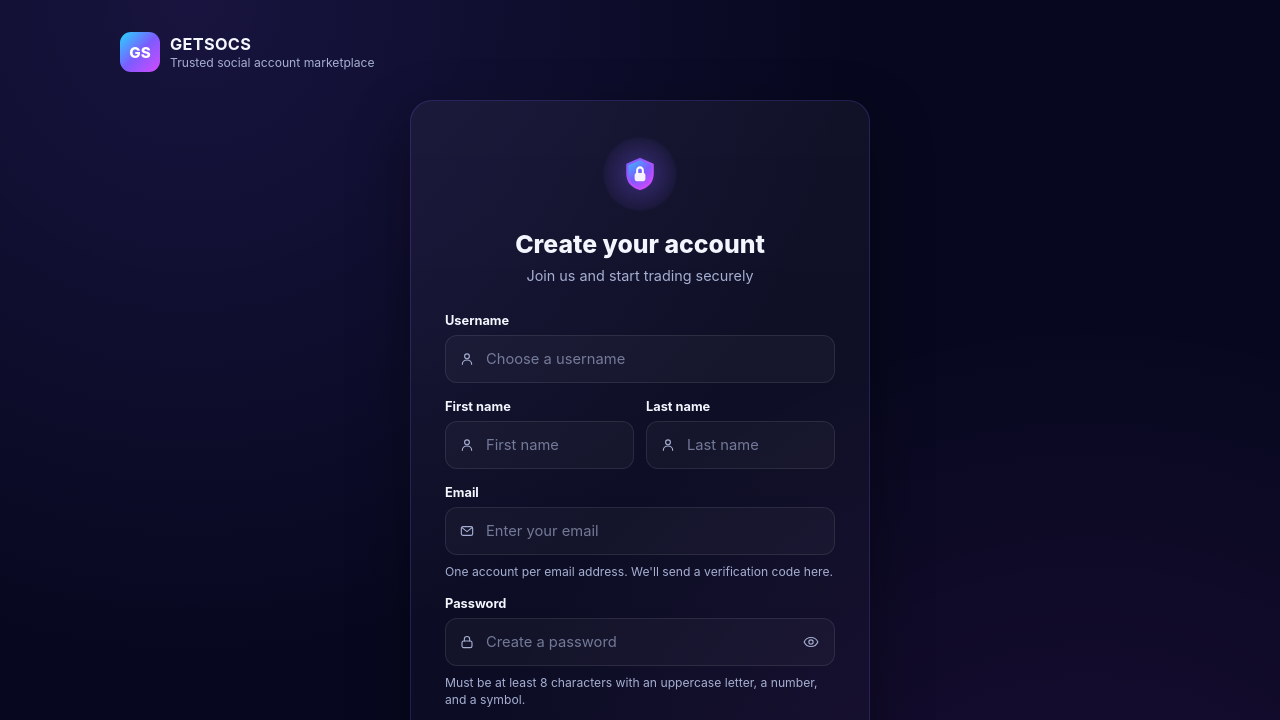
Test: Redesigned auth pages — render + core interactions › Register: submitting without agreeing to the policy shows an error, not a silent no-op
Type "tester" into the field with placeholder "Choose a username" at (640, 359), box x1=445 y1=335 x2=835 y2=383
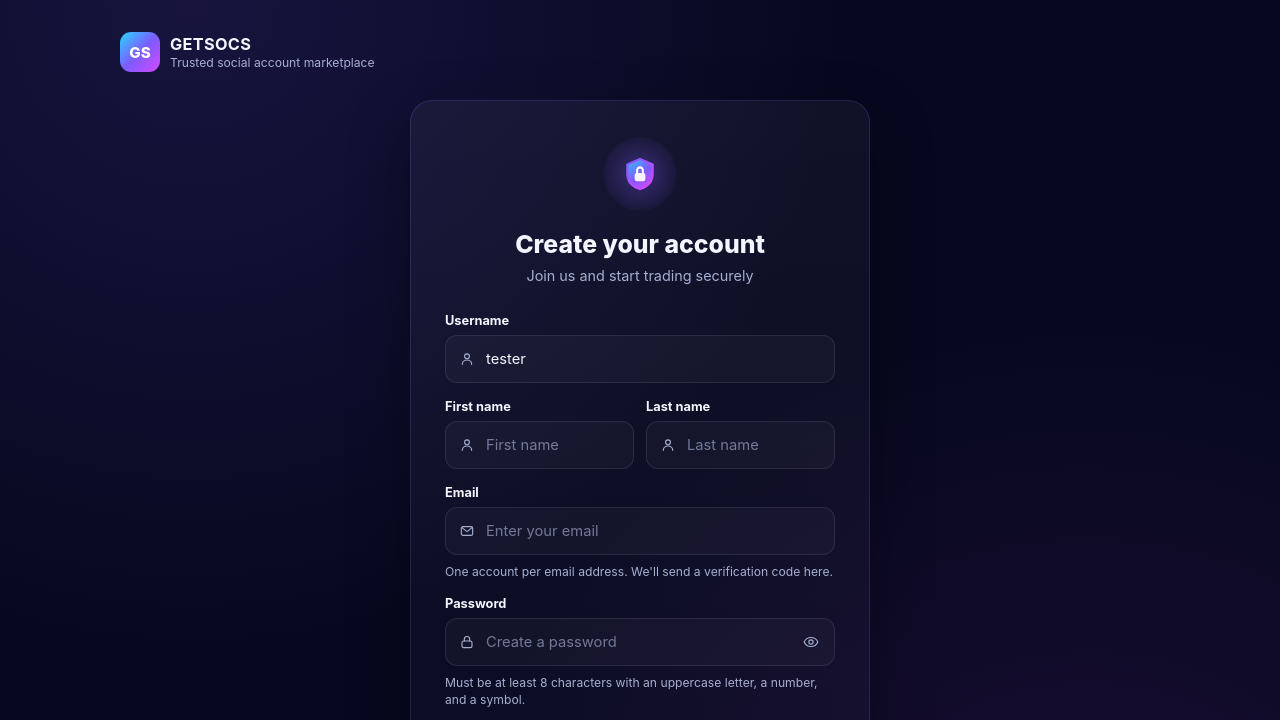
Type "Test" into the field with placeholder "First name" at (540, 445), box x1=445 y1=421 x2=634 y2=469
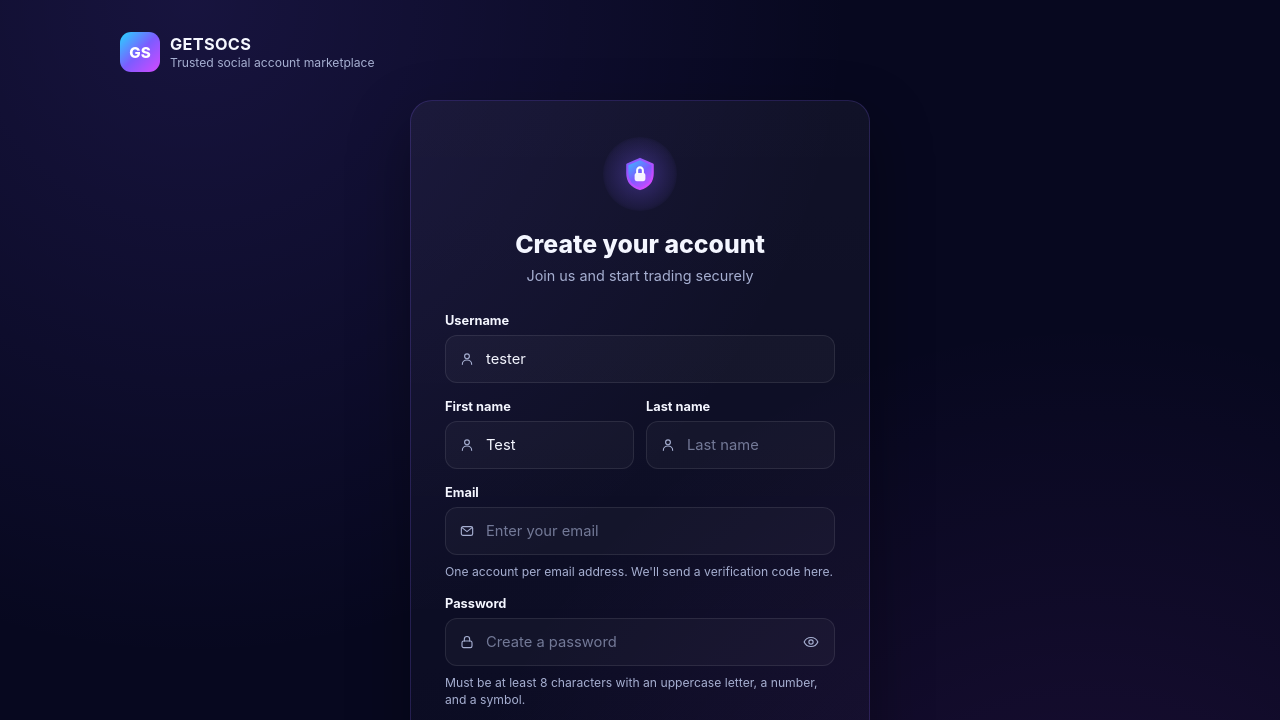
Type "User" into the field with placeholder "Last name" at (740, 445), box x1=646 y1=421 x2=835 y2=469
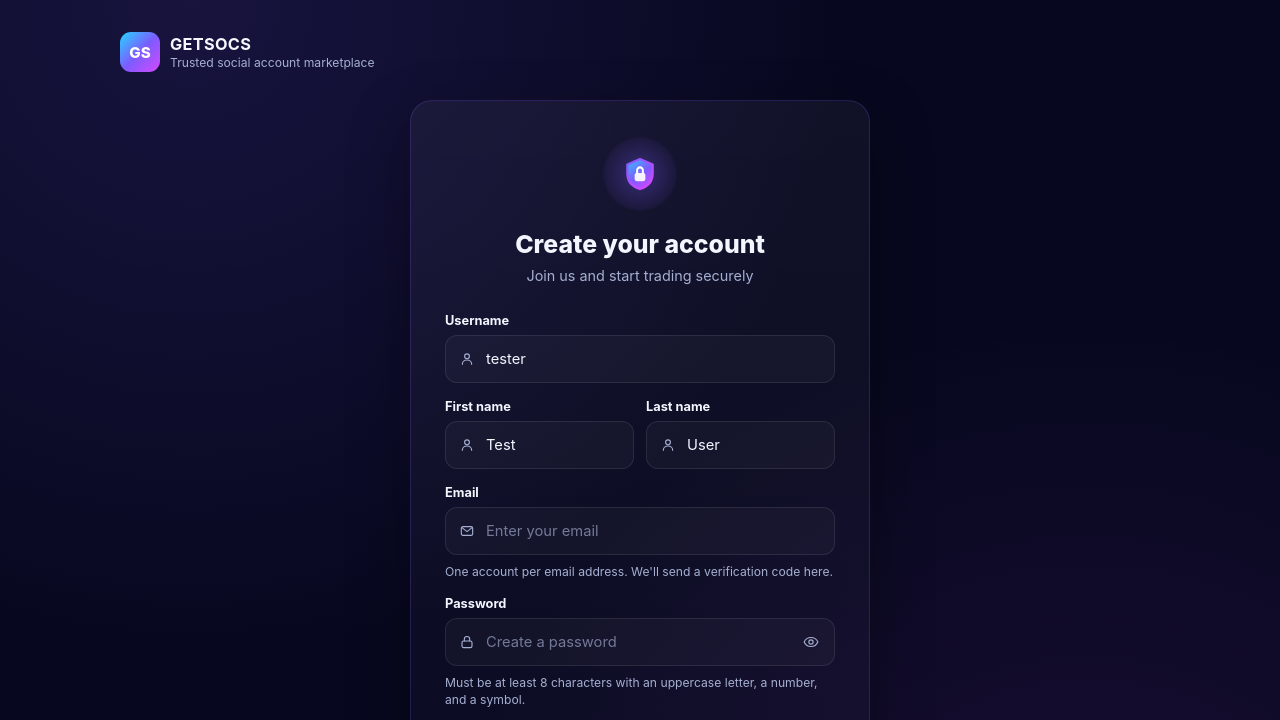
Type "tester@example.com" into the field with placeholder "Enter your email" at (640, 531), box x1=445 y1=507 x2=835 y2=555
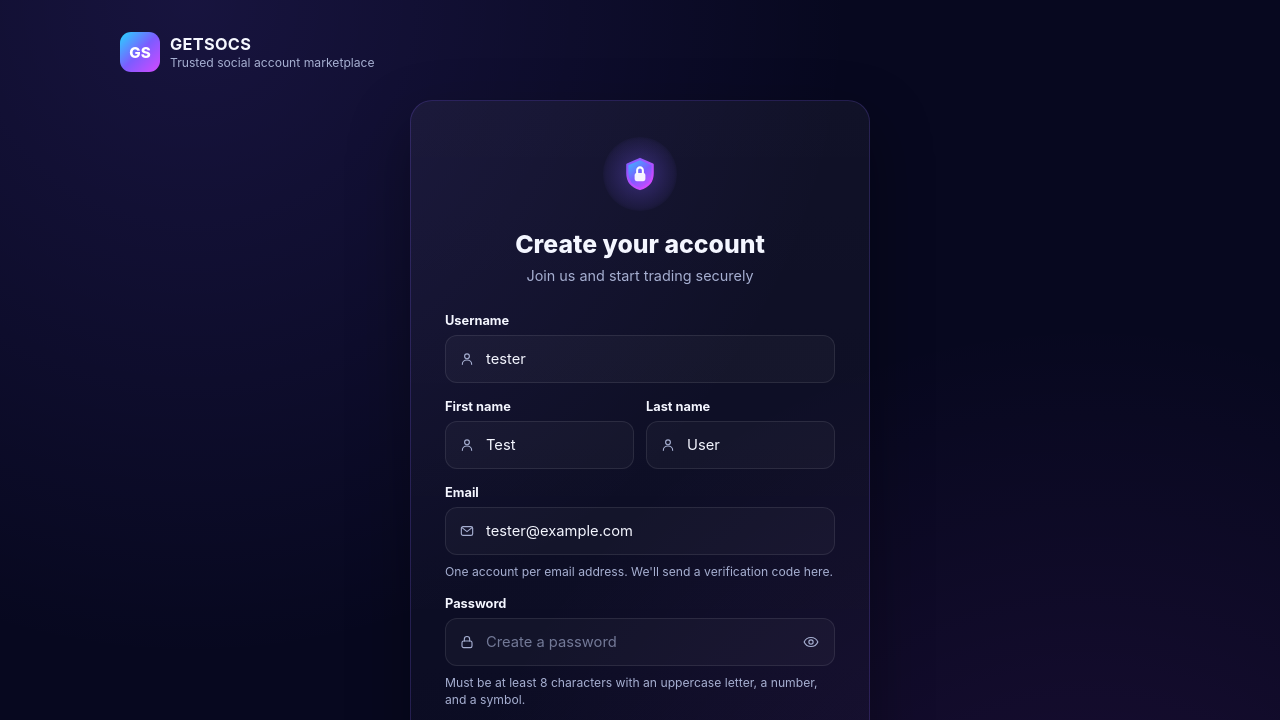
Type "Sup3r!Secret" into the password field with placeholder "Create a password" at (640, 642), box x1=445 y1=618 x2=835 y2=666
(page scrolled)
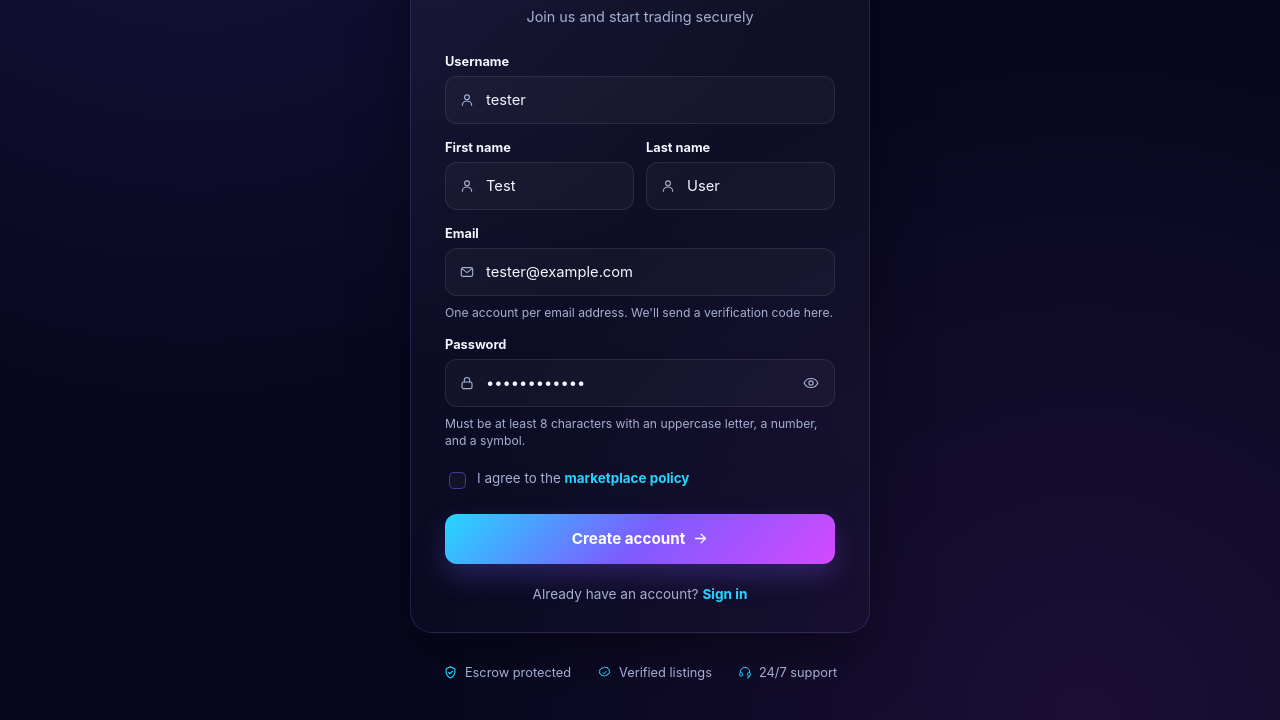
Click the button "Create account" at (640, 539), box x1=445 y1=514 x2=835 y2=564
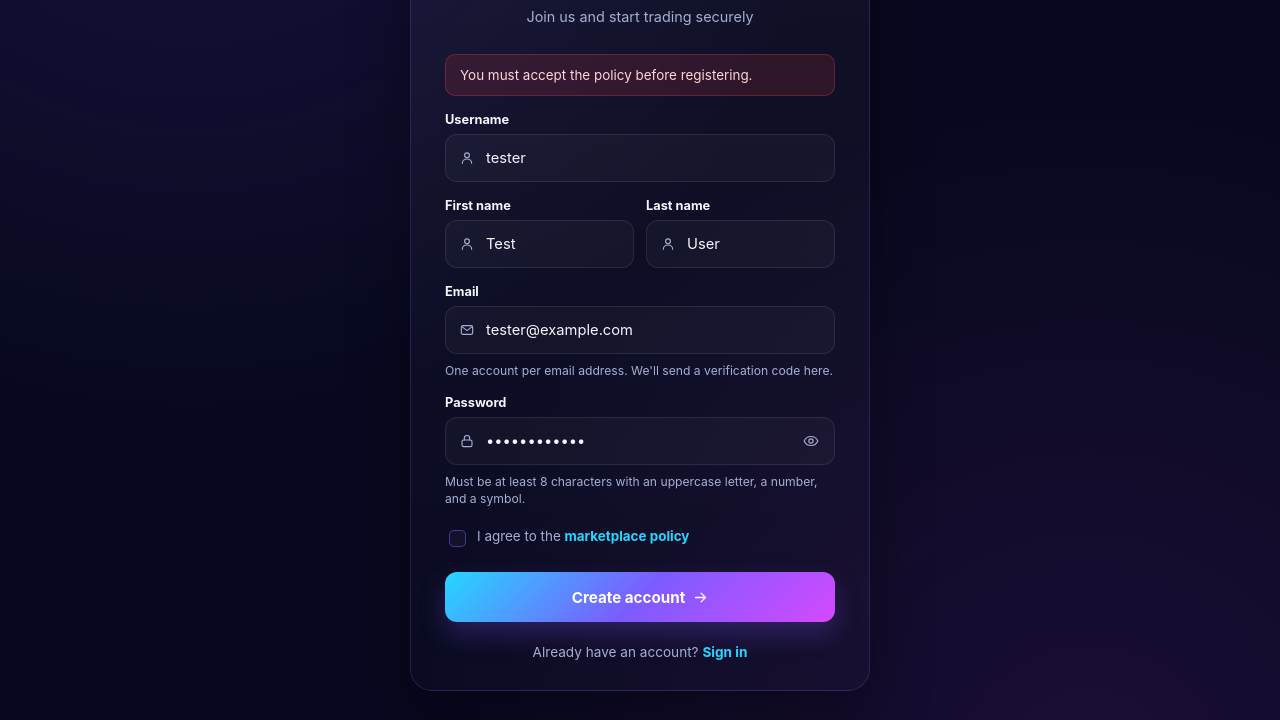
Check: the text "You must accept the policy before registering." is shown, box x1=445 y1=54 x2=835 y2=96
